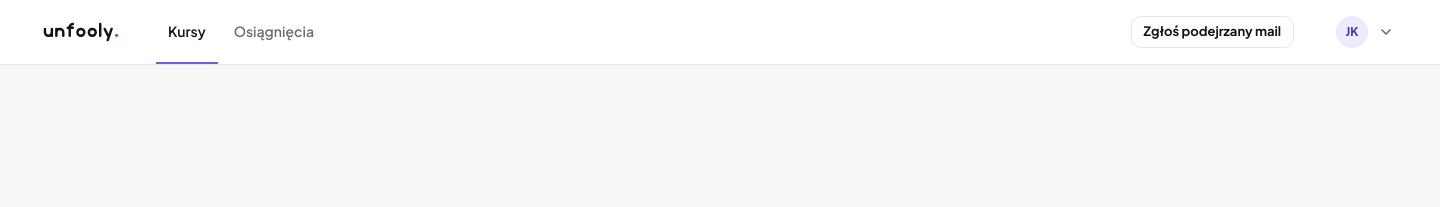
Scenario: Topbar › klik w avatar otwiera menu użytkownika z pozycją "Wyloguj"
The width and height of the screenshot is (1440, 207).
What coordinates should you click on to do the following:
click the button with aria-label "Menu użytkownika"
I would click on:
 (1365, 32)
Its box is [1330,12,1400,52].
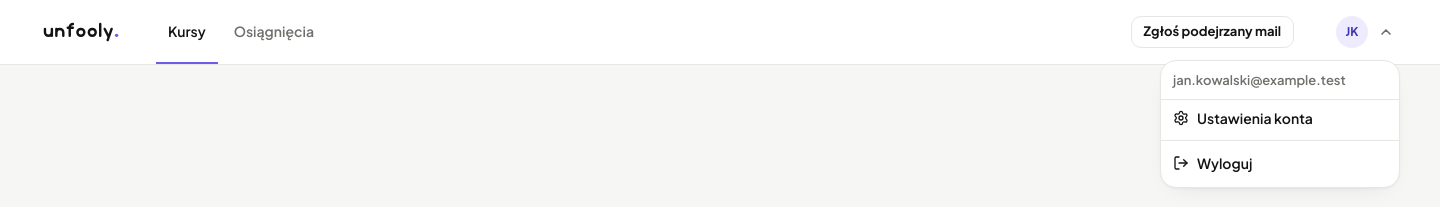
Expected: the menu item "Wyloguj" is shown, [1161,144,1399,180]
